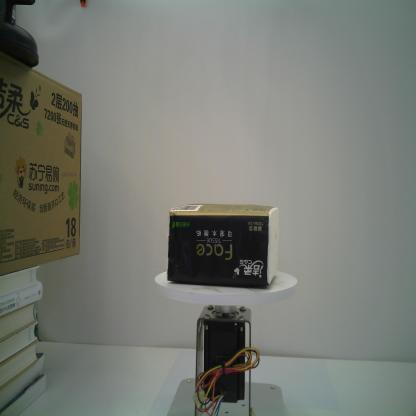Tissue: (166, 201, 282, 286)
